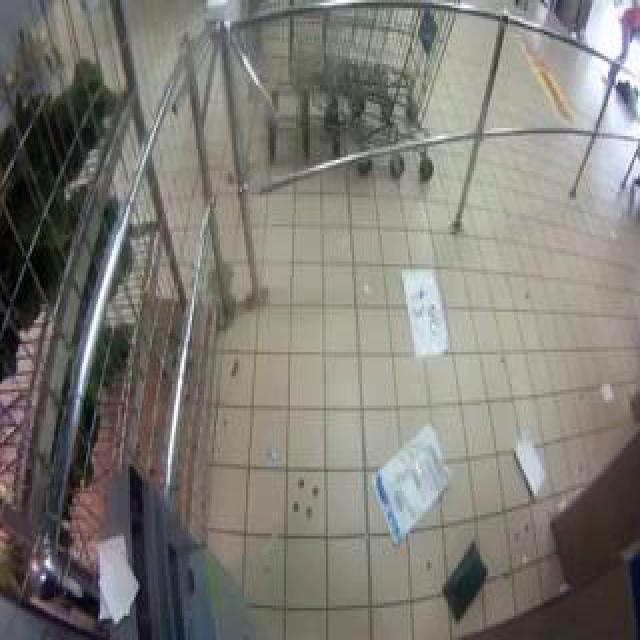shooting: (228, 31, 616, 523)
